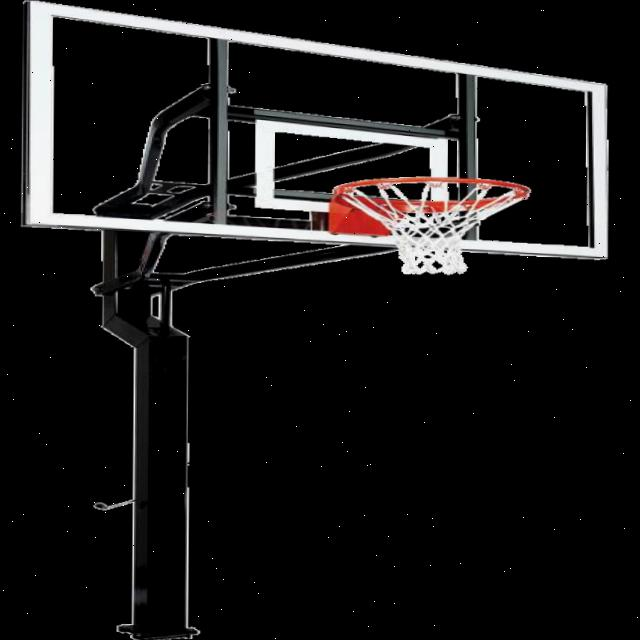hoop: (333, 175, 530, 276)
